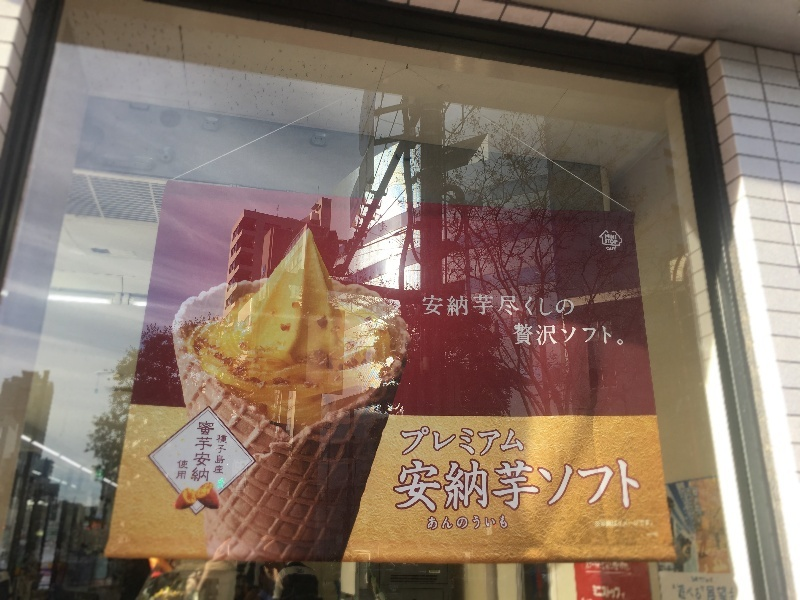text: (401, 458, 416, 516), (417, 458, 432, 516), (433, 458, 448, 516), (449, 458, 464, 516), (465, 458, 480, 516), (481, 458, 496, 516), (497, 458, 512, 516), (513, 458, 528, 516), (529, 458, 544, 516), (545, 458, 560, 516), (561, 458, 576, 516), (577, 458, 592, 516), (593, 458, 608, 516), (609, 458, 624, 516), (625, 458, 640, 516), (198, 420, 208, 484), (401, 427, 416, 458), (417, 427, 432, 458), (433, 427, 448, 458), (449, 427, 464, 458), (465, 427, 480, 458), (481, 427, 496, 458), (497, 427, 512, 458), (392, 458, 400, 516), (209, 420, 216, 484), (513, 427, 526, 458), (609, 322, 625, 346), (513, 322, 528, 346), (529, 322, 544, 346), (545, 322, 560, 346), (561, 322, 576, 346), (577, 322, 592, 346), (593, 322, 608, 346), (433, 295, 448, 315), (449, 295, 464, 315), (465, 295, 480, 315), (481, 295, 496, 315), (497, 295, 512, 315), (513, 295, 528, 315), (529, 295, 544, 315), (545, 295, 560, 315), (178, 460, 192, 481), (561, 295, 575, 315), (218, 434, 224, 475), (641, 458, 645, 516), (433, 516, 448, 531), (449, 516, 464, 531), (465, 516, 480, 531), (481, 516, 496, 531), (497, 516, 509, 531), (424, 295, 432, 315), (609, 520, 624, 529), (625, 520, 640, 529), (594, 520, 608, 529), (225, 434, 228, 475), (641, 520, 654, 529), (427, 516, 432, 531), (609, 239, 618, 245), (609, 234, 617, 240), (609, 247, 617, 251), (605, 234, 608, 240), (605, 239, 608, 245), (606, 247, 608, 251)
